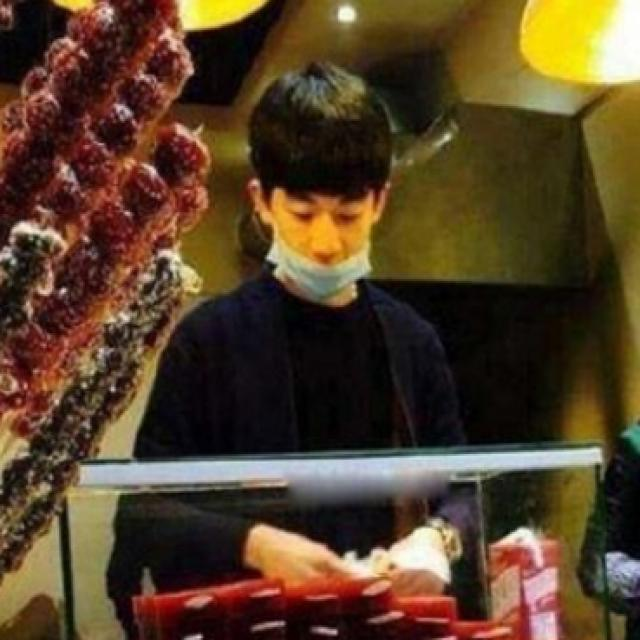mask: (271, 168, 371, 297)
